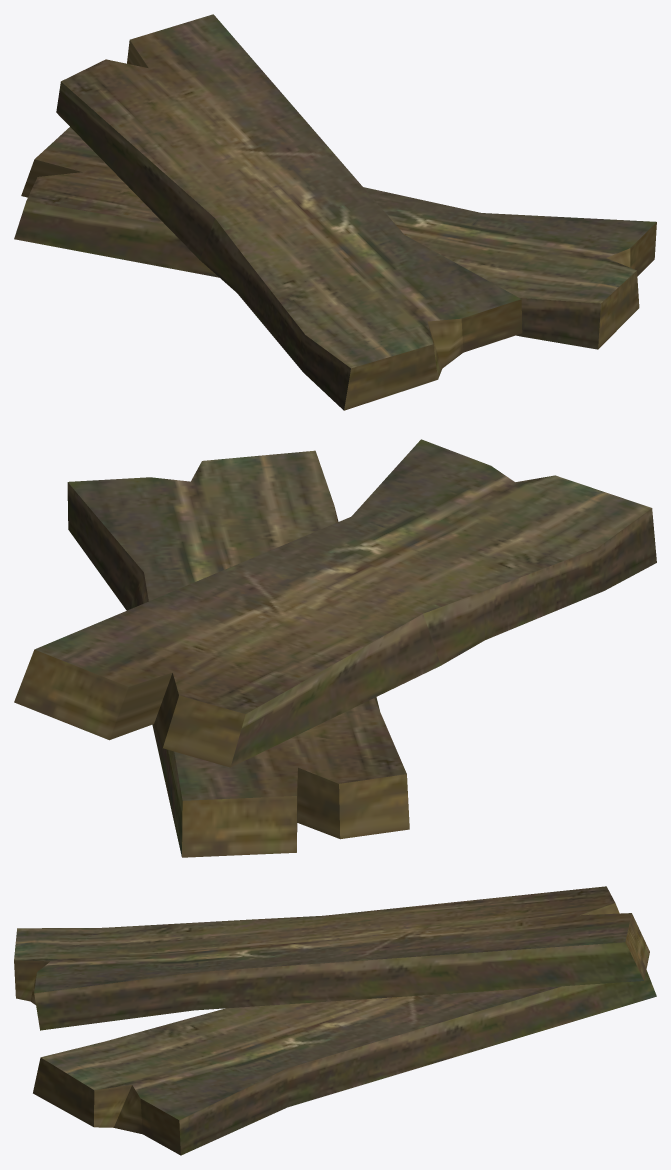
The model's file is THL1_10.fbx.
3 views of the same model, one above another, from view 1: azimuth 30°, elevation 25°; view 2: azimuth 150°, elevation 25°; view 3: azimuth 270°, elevation 25° (orthographic). The views are drawn at different scales.
Visible parts, largest first — view 1: polySurface33; view 2: polySurface33; view 3: polySurface33.
Part boxes in pixels (x1,y1,x2,y2): polySurface33: (14, 14, 656, 410); polySurface33: (14, 439, 656, 857); polySurface33: (14, 886, 656, 1155).
Size of the model in its own units: 2.07 by 0.5337 by 2.64.
